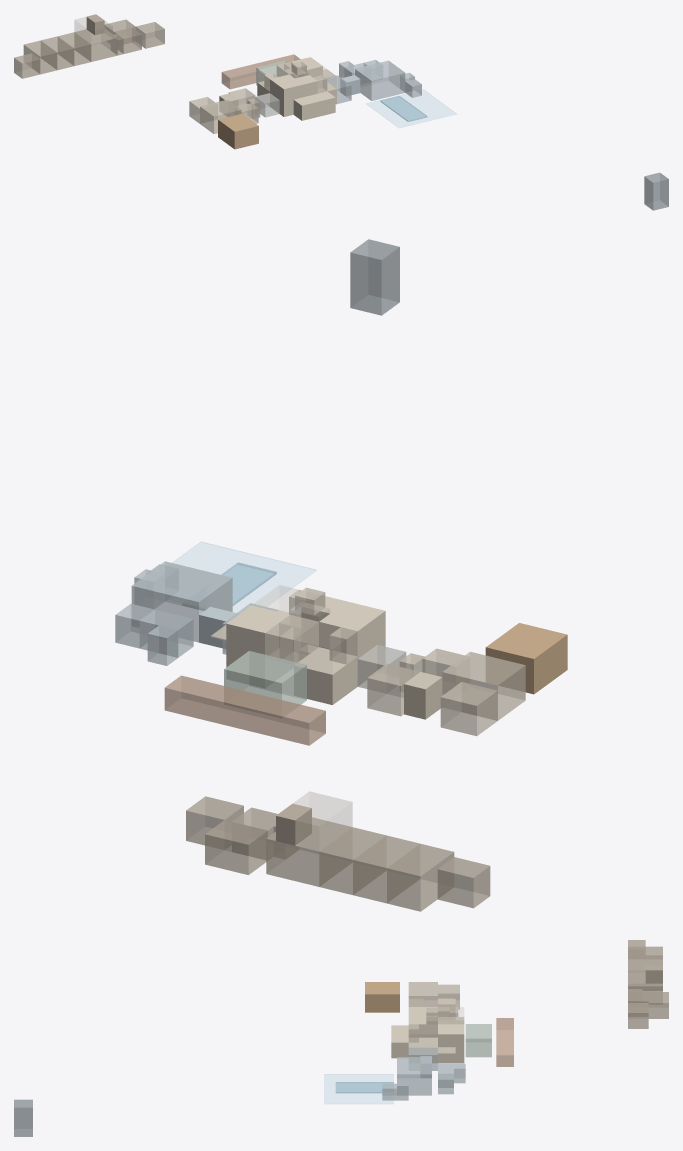
Rendered from compound_model.gltf.
The picture shows the model from 3 angles, top to bottom: view 1: azimuth 30°, elevation 25°; view 2: azimuth 150°, elevation 25°; view 3: azimuth 270°, elevation 25°; orthographic projection. The views are drawn at different scales.
Visible parts, largest first — view 1: pool_terrace, sunroom, cedar_pavilion, energy_forge, north_alley_pergola, front_porch, vehicle_bay_1, vehicle_bay_2, vehicle_bay_3, observatory_tower, kitchen, loft (+21 smaller); view 2: north_alley_pergola, sunroom, cedar_pavilion, kitchen, pool_terrace, orangery, energy_forge, vehicle_bay_1, vehicle_bay_3, vehicle_bay_2, observatory_tower, oval_dining_nw (+21 smaller); view 3: pool_terrace, sunroom, cedar_pavilion, orangery, north_alley_pergola, energy_forge, kitchen, observatory_tower, rafa_s_texas_room_se_over_great, primary_bedroom_ne_over_library, great_room_se, front_porch (+16 smaller).
Part boxes in pixels (left/top/right/bottom): pool_terrace: left=366, top=89, right=456, bottom=127; sunroom: left=355, top=60, right=405, bottom=100; cedar_pavilion: left=218, top=114, right=258, bottom=149; energy_forge: left=74, top=29, right=117, bottom=61; north_alley_pergola: left=221, top=54, right=300, bottom=89; front_porch: left=293, top=91, right=335, bottom=120; vehicle_bay_1: left=23, top=40, right=57, bottom=74; vehicle_bay_2: left=41, top=36, right=74, bottom=70; vehicle_bay_3: left=58, top=32, right=91, bottom=65; observatory_tower: left=644, top=172, right=668, bottom=210; kitchen: left=200, top=99, right=241, bottom=133; loft: left=74, top=17, right=112, bottom=43; north_alley_pergola: left=164, top=675, right=325, bottom=745; sunroom: left=131, top=561, right=232, bottom=642; cedar_pavilion: left=485, top=623, right=567, bottom=694; kitchen: left=442, top=651, right=525, bottom=720; pool_terrace: left=172, top=542, right=316, bottom=612; orangery: left=224, top=651, right=306, bottom=717; energy_forge: left=266, top=817, right=352, bottom=886; vehicle_bay_1: left=387, top=843, right=454, bottom=911; vehicle_bay_3: left=319, top=827, right=386, bottom=894; vehicle_bay_2: left=353, top=835, right=419, bottom=903; observatory_tower: left=350, top=239, right=399, bottom=315; oval_dining_nw: left=294, top=647, right=357, bottom=704; pool_terrace: left=324, top=1074, right=393, bottom=1103; sunroom: left=397, top=1057, right=431, bottom=1095; cedar_pavilion: left=365, top=982, right=399, bottom=1012; orangery: left=465, top=1024, right=491, bottom=1057; north_alley_pergola: left=496, top=1018, right=513, bottom=1066; energy_forge: left=628, top=972, right=662, bottom=1003; kitchen: left=408, top=982, right=437, bottom=1006; observatory_tower: left=14, top=1099, right=32, bottom=1136; rafa_s_texas_room_se_over_great: left=409, top=1024, right=437, bottom=1047; primary_bedroom_ne_over_library: left=438, top=1024, right=464, bottom=1047; great_room_se: left=408, top=1037, right=437, bottom=1063; front_porch: left=391, top=1025, right=408, bottom=1058.
Size of the model in its own units: 293 by 31 by 448.
